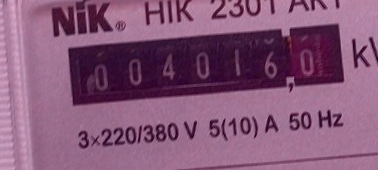0: (191, 46, 214, 83), (89, 58, 113, 93), (124, 53, 145, 88), (295, 44, 317, 77)
1: (228, 43, 246, 78)
4: (158, 48, 178, 83)
6: (259, 45, 280, 79)
screen: (59, 15, 353, 113)
